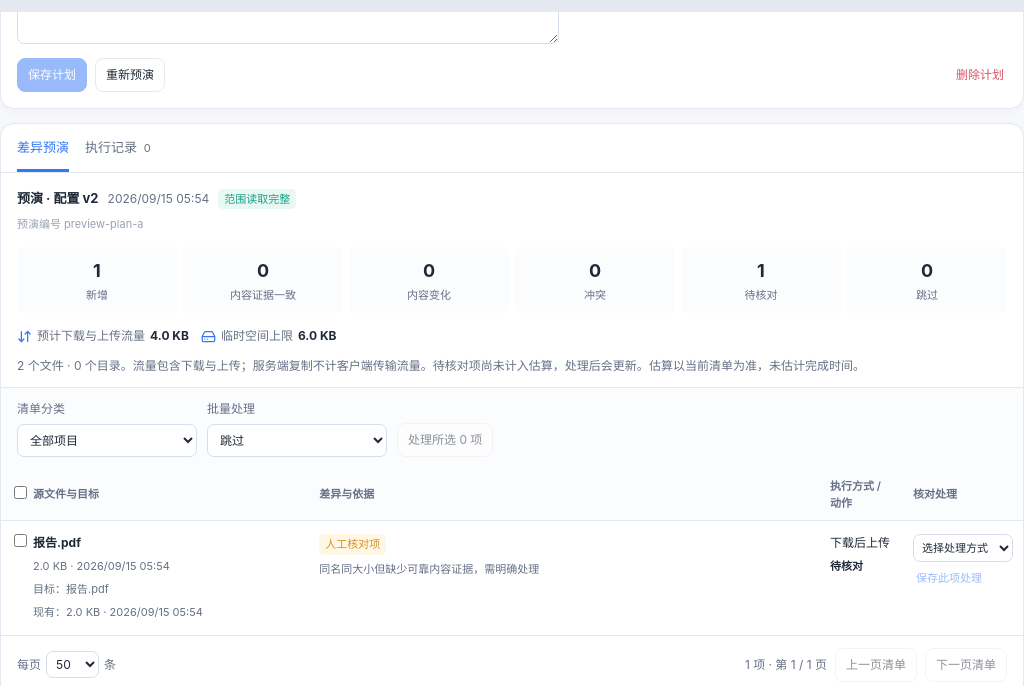
it: handles a whole category by reading pages first and then submitting bounded decision batches
(page scrolled)
Select "人工核对项" in the dropdown named "预演分类". click: [107, 441]
box: [17,424,197,457]
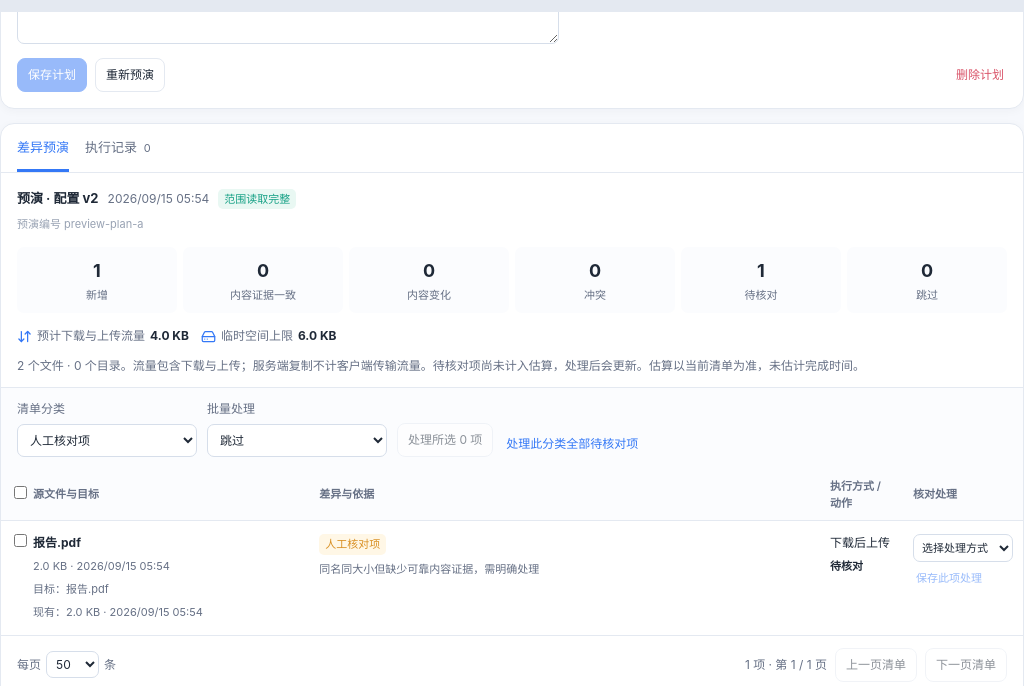
Click the button "处理此分类全部待核对项". click: [572, 444]
box: [503,431,641,457]
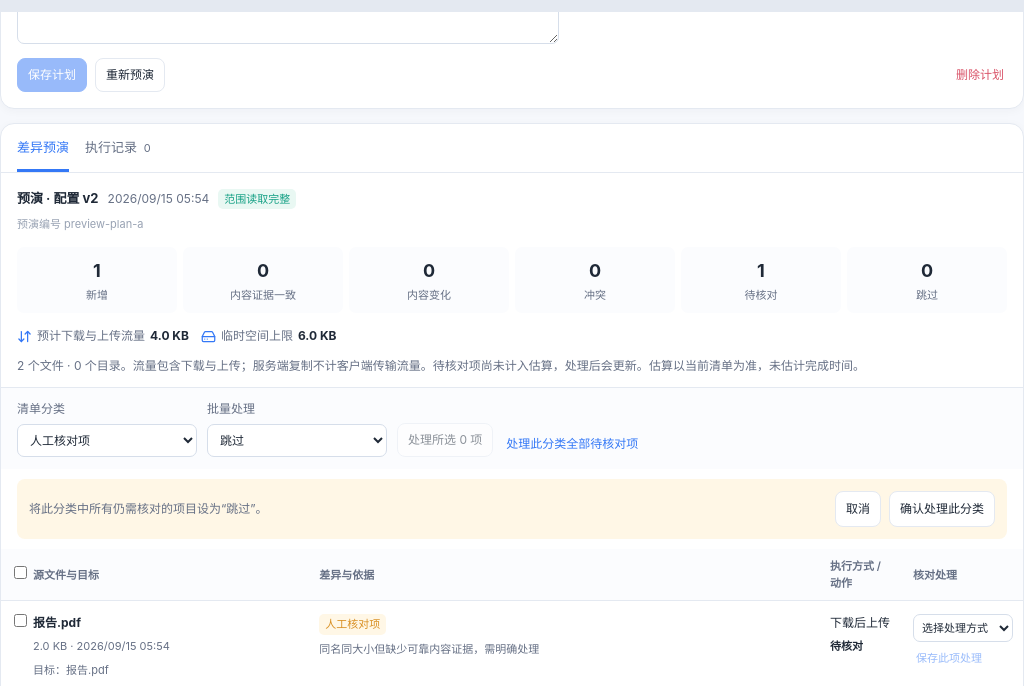
Click the button "确认处理此分类". click: [942, 509]
box: [889,491,995,528]
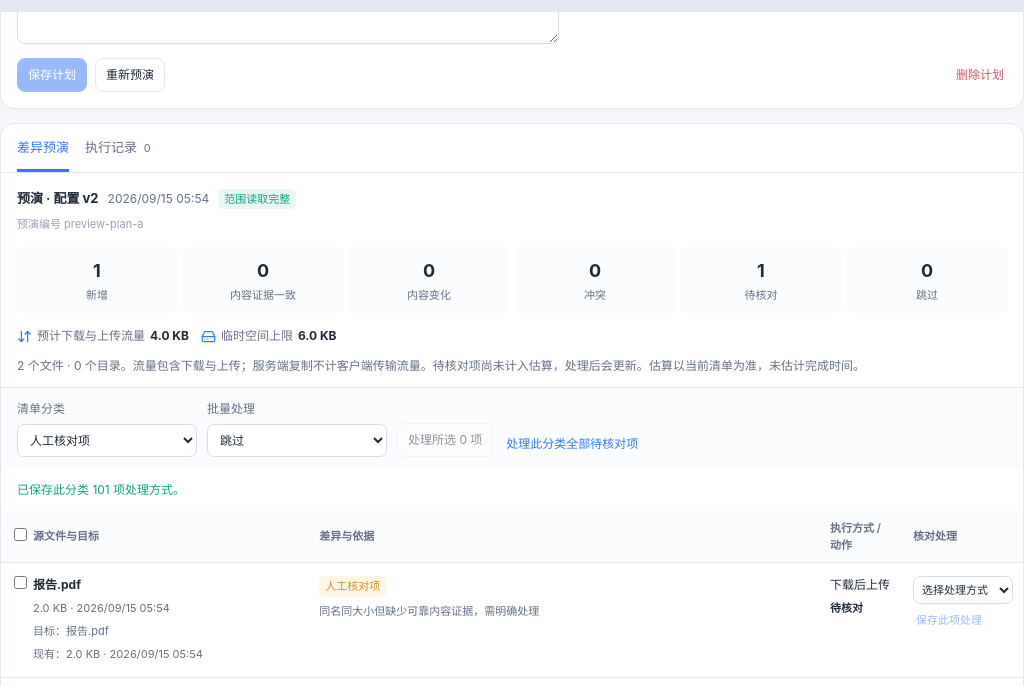
Check: the text "已保存此分类 101 项处理方式" is shown, box [17,482,185,497]
